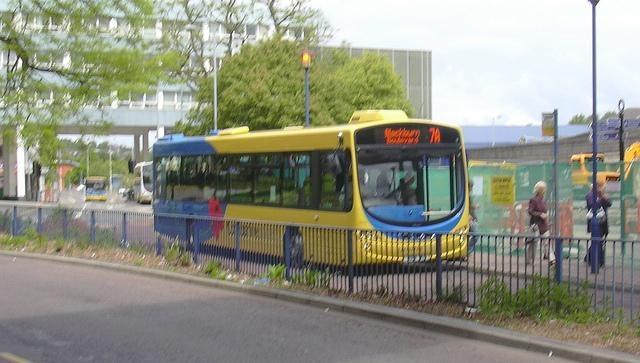bus: (154, 112, 472, 277), (85, 177, 107, 202)
